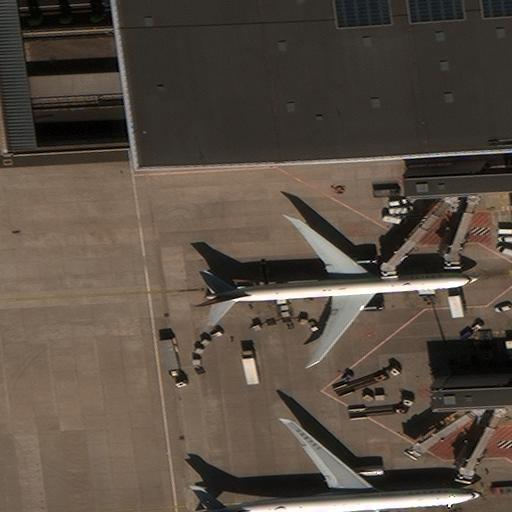Large Civil Transport: (193, 217, 477, 361), (202, 418, 480, 511)
